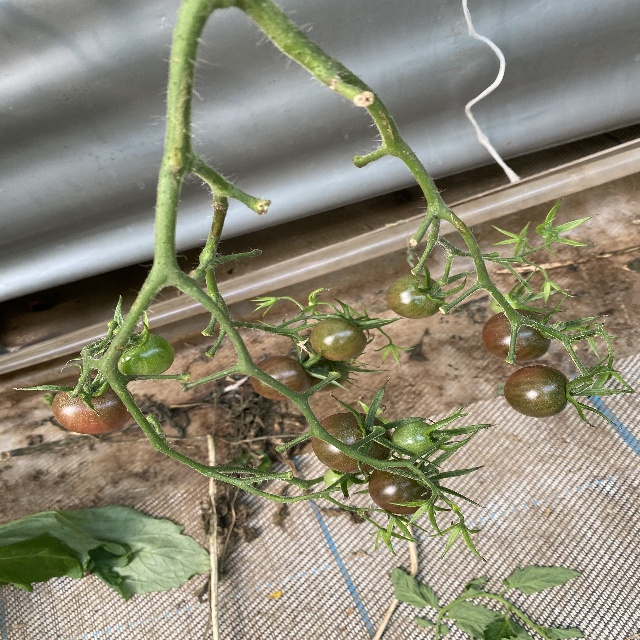l_green: (116, 333, 176, 380), (388, 274, 444, 319), (393, 421, 435, 456), (322, 468, 353, 491), (490, 293, 522, 314)
l_half_ripened: (311, 413, 394, 474), (52, 381, 137, 434), (368, 458, 441, 516), (482, 309, 552, 363), (504, 365, 571, 418), (250, 354, 311, 400), (311, 319, 367, 362)
